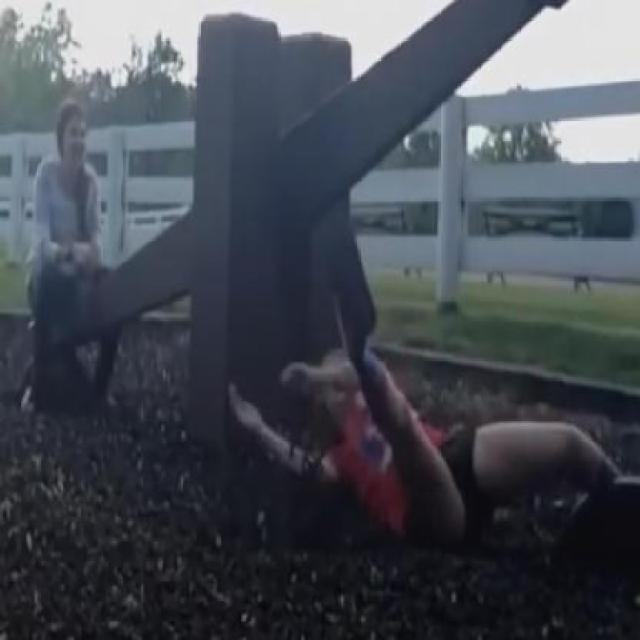fall: (232, 321, 617, 556)
